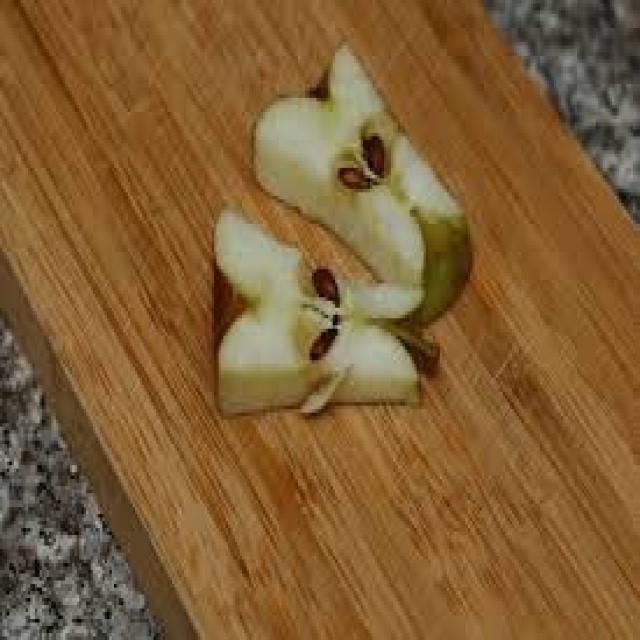Used Apple: (258, 40, 477, 321), (214, 205, 420, 409)
